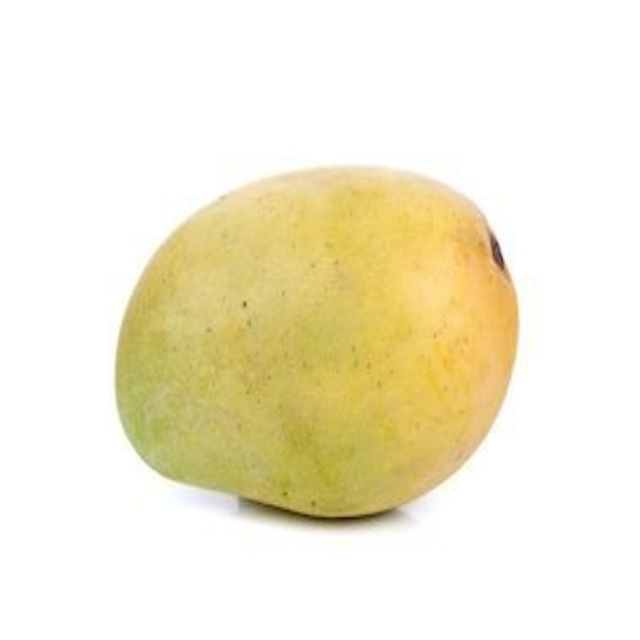mango: (117, 164, 518, 519)
